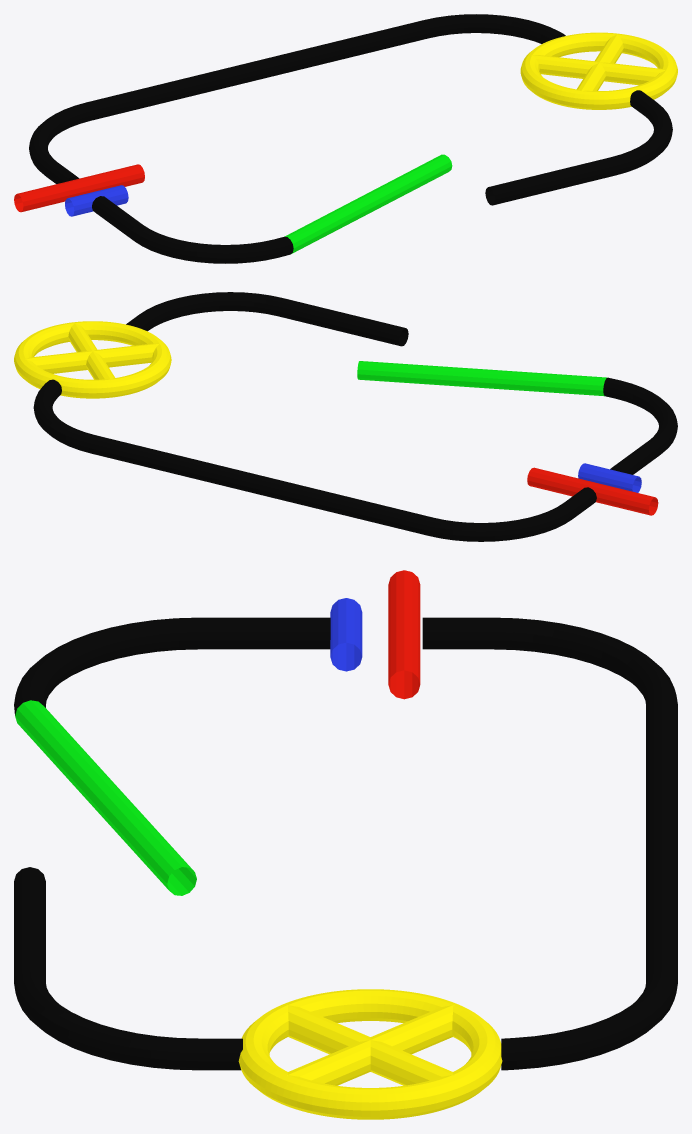
The model's file is pruebacicuito.gltf.
3 views of the same model, one above another, from view 1: azimuth 30°, elevation 25°; view 2: azimuth 150°, elevation 25°; view 3: azimuth 270°, elevation 25° (orthographic). The views are drawn at different scales.
Parts seen in each view (by area): view 1: rect10, path13, rect10.001, path41, path88-3, path88, path39; view 2: rect10, path13, rect10.001, path41, path88, path39, path88-3; view 3: rect10, path13, rect10.001, path88, path88-3, path41, path39.
Part boxes in pixels (x1,y1,x2,y2): rect10: [29, 14, 672, 263]; path13: [520, 32, 677, 109]; rect10.001: [285, 154, 452, 253]; path41: [14, 164, 144, 212]; path88-3: [531, 55, 666, 85]; path88: [577, 34, 623, 91]; path39: [65, 185, 128, 216]; rect10: [33, 292, 677, 541]; path13: [14, 321, 171, 398]; rect10.001: [357, 361, 606, 396]; path41: [527, 467, 658, 515]; path88: [25, 343, 160, 373]; path39: [578, 463, 641, 492]; path88-3: [68, 322, 114, 379]; rect10: [14, 617, 677, 1070]; path13: [238, 989, 502, 1119]; rect10.001: [15, 700, 196, 895]; path88: [286, 1004, 454, 1085]; path88-3: [287, 1004, 454, 1085]; path41: [388, 570, 420, 699]; path39: [330, 598, 362, 671].
Bounding box in the file's own units: 0.1558 × 0.004 × 0.0831.
